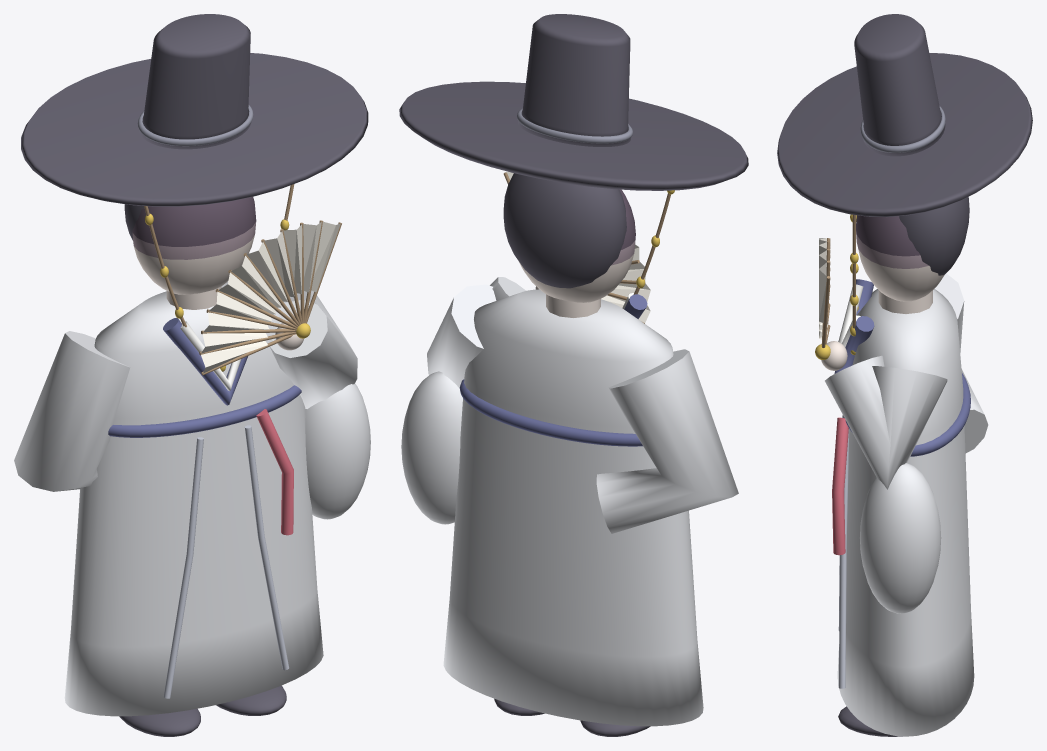
The model's file is conch_jeonwoochi_a_behind_0_1.glb.
The picture shows the model from 3 angles, left to right: view 1: azimuth 30°, elevation 25°; view 2: azimuth 150°, elevation 25°; view 3: azimuth 270°, elevation 25°; orthographic projection.
Bounding box in the file's own units: 28.25 × 55.23 × 18.85.
